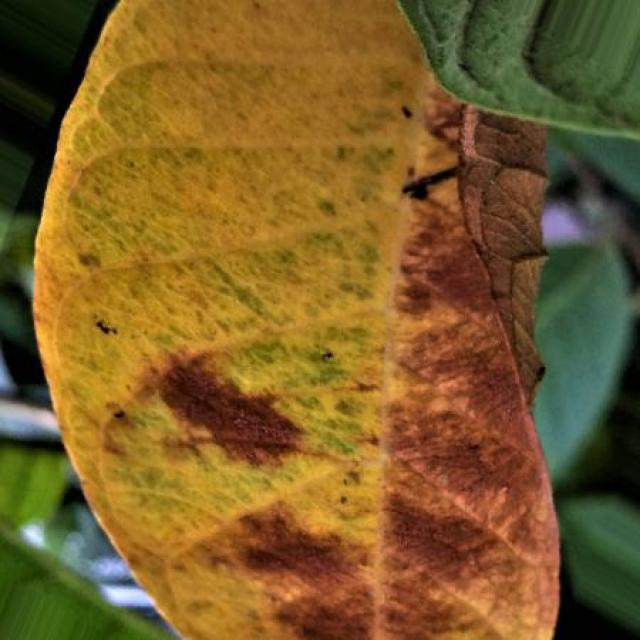Red Rust: (35, 0, 559, 640)
